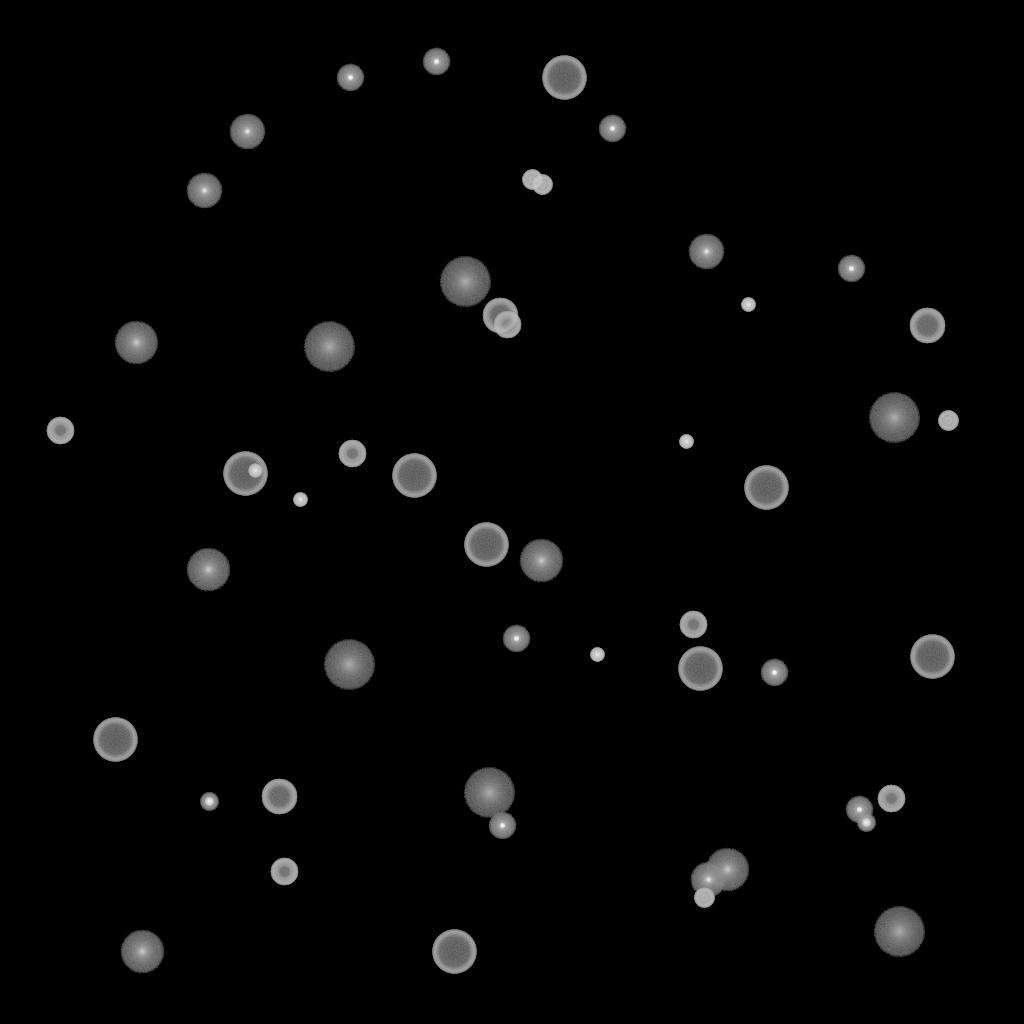depth:-10: (598, 115, 626, 143), (502, 625, 530, 653), (422, 48, 450, 76), (488, 812, 516, 840), (336, 64, 364, 92), (837, 255, 865, 283), (845, 796, 873, 824), (760, 659, 788, 687)
depth:-20: (200, 793, 218, 811), (857, 814, 875, 832)
depth:-30: (248, 464, 262, 478), (590, 648, 604, 662), (679, 435, 693, 449), (293, 493, 307, 507), (741, 298, 755, 312)
depth:-40: (522, 170, 542, 190), (694, 888, 714, 908), (938, 411, 958, 431), (532, 175, 552, 195)
depth:-50: (46, 417, 74, 445), (679, 611, 707, 639), (338, 440, 366, 468), (877, 785, 905, 813), (270, 858, 298, 886), (493, 311, 521, 339)
depth:-60: (909, 308, 945, 344), (261, 779, 297, 815), (482, 298, 518, 334)
depth:-70: (464, 523, 508, 567), (542, 56, 586, 100), (432, 930, 476, 974), (392, 454, 436, 498), (223, 452, 267, 496), (678, 647, 722, 691), (744, 466, 788, 510), (910, 635, 954, 679), (93, 718, 137, 762)
depth:0: (229, 114, 265, 150), (186, 173, 222, 209), (690, 862, 726, 898), (688, 234, 724, 270)
depth:10: (114, 321, 158, 365), (186, 548, 230, 592), (705, 848, 749, 892), (120, 930, 164, 974), (519, 539, 563, 583)
depth:20: (439, 257, 491, 307), (873, 907, 925, 957), (303, 322, 355, 372), (868, 393, 920, 443), (463, 768, 515, 818), (323, 640, 375, 690)
